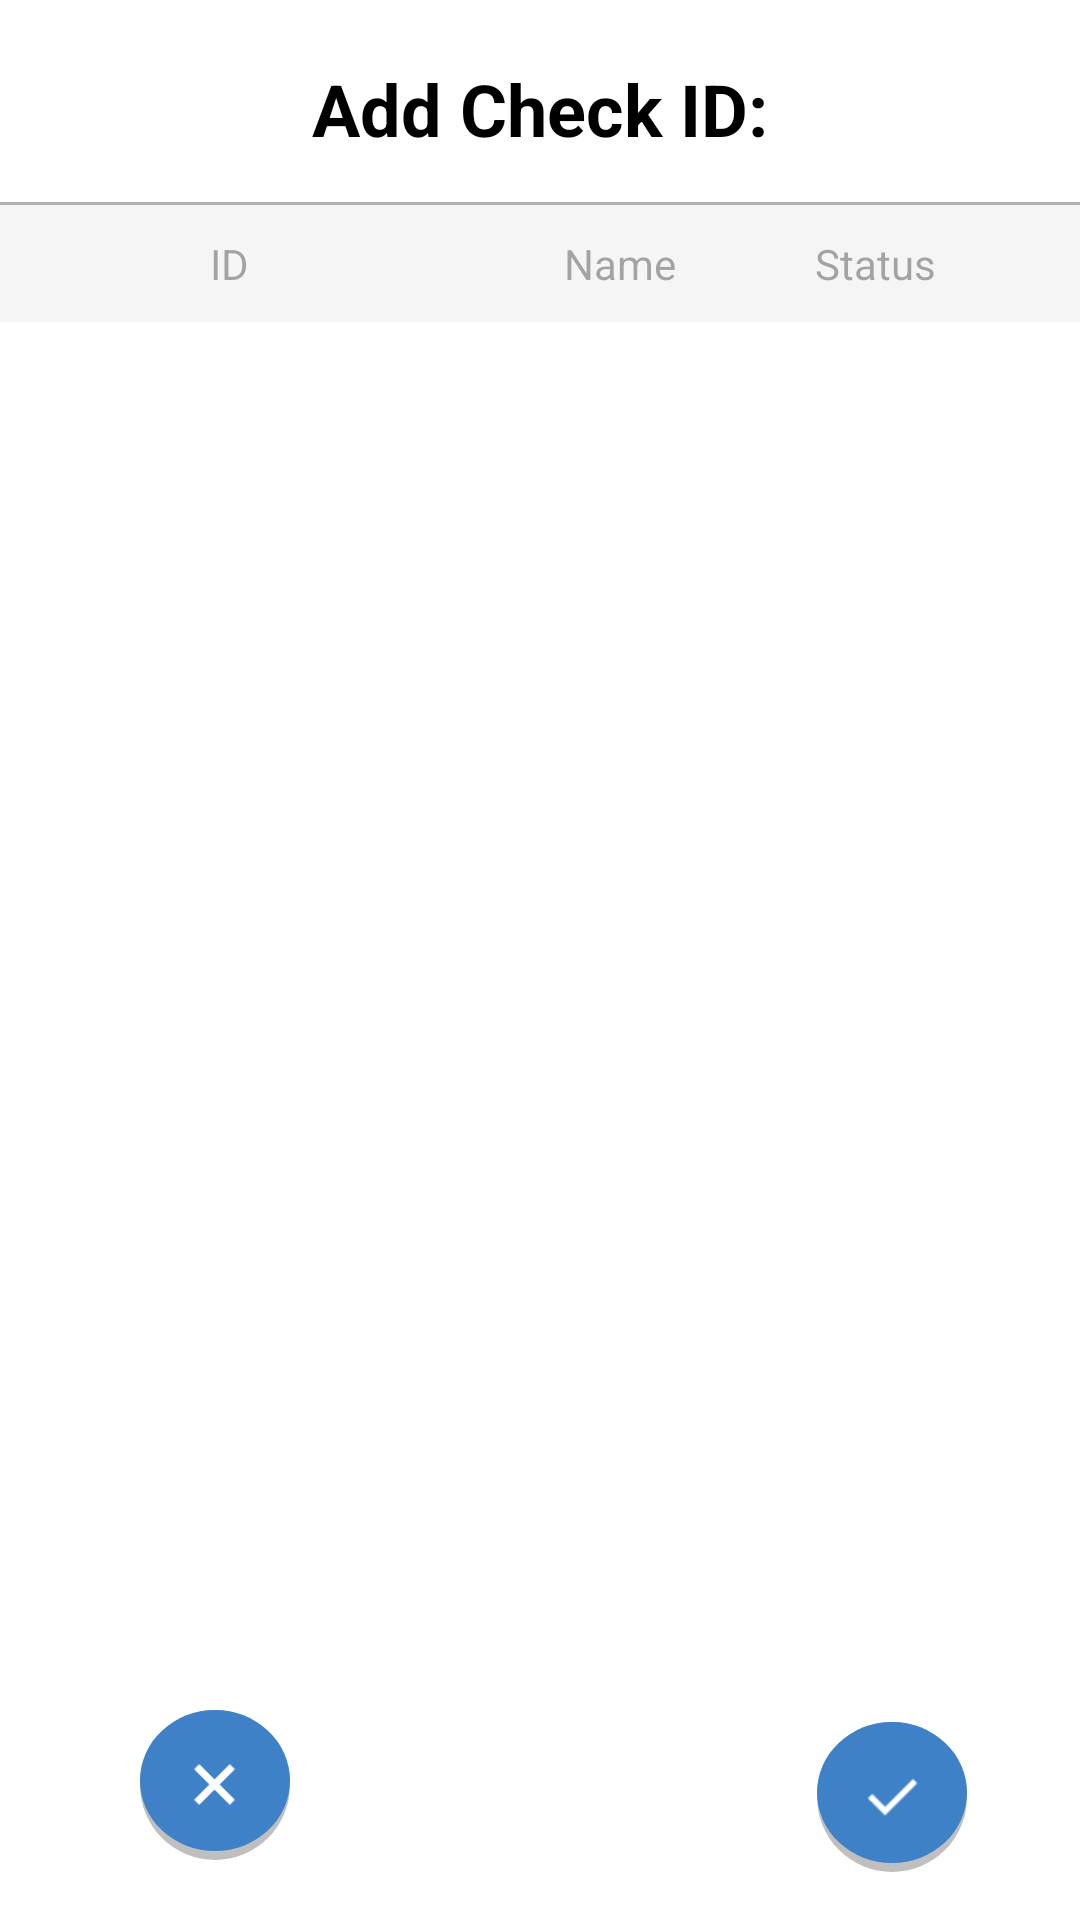

Where to tap for icons on this 1080x1920 app screen, as (x=x, y=y):
cancelicon: (x=214, y=1784)
checkicon: (x=892, y=1797)
